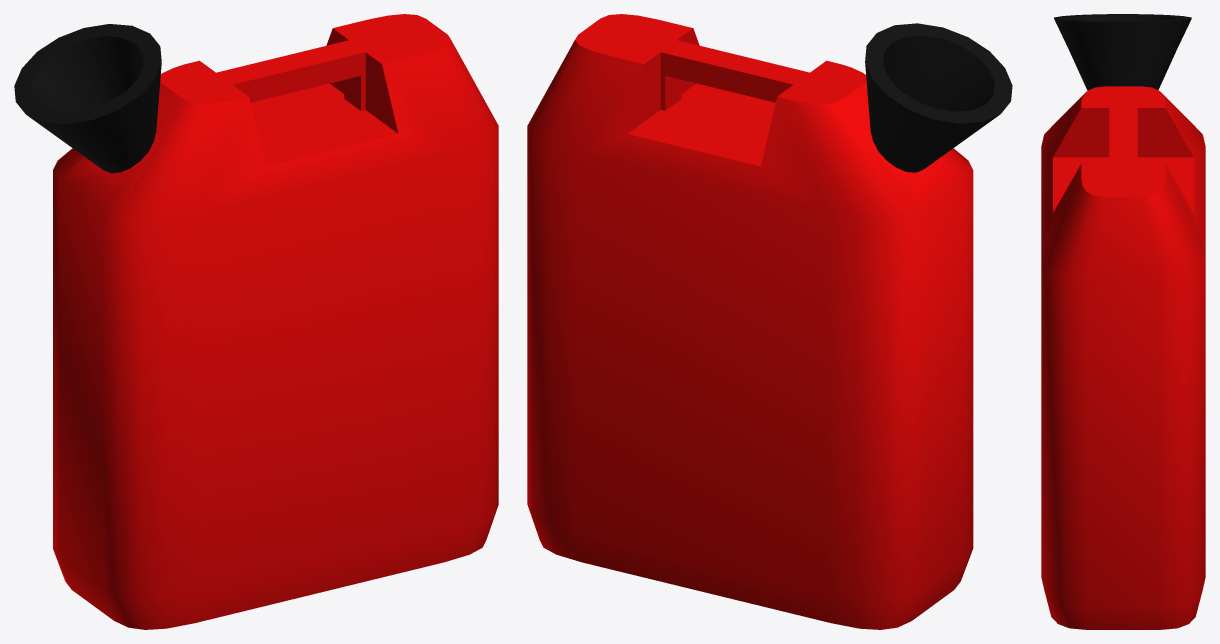
File: BidonGasolinaGRANDE.fbx
The picture shows the model from 3 angles, left to right: view 1: azimuth 30°, elevation 25°; view 2: azimuth 150°, elevation 25°; view 3: azimuth 270°, elevation 25°; orthographic projection. The views are drawn at different scales.
Parts seen in each view (by area): view 1: Box001; view 2: Box001; view 3: Box001.
Boxes of the visible parts, left/top/right/bottom form: Box001: left=14, top=14, right=498, bottom=629; Box001: left=527, top=14, right=1012, bottom=629; Box001: left=1041, top=14, right=1205, bottom=629.
Size of the model in its own units: 11.37 by 13.93 by 4.26.
